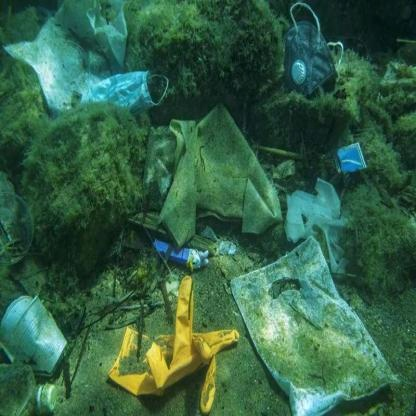Mask: (272, 1, 342, 107), (80, 61, 174, 119)
